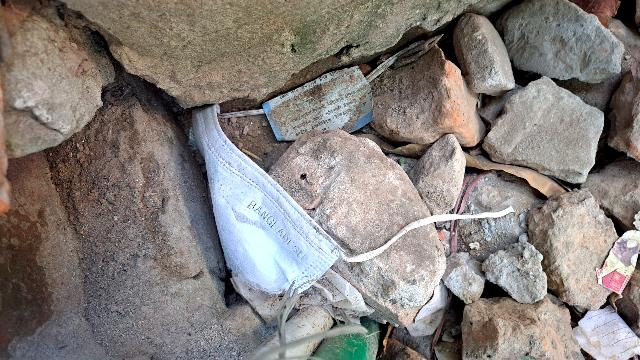mask: (143, 102, 356, 325)
